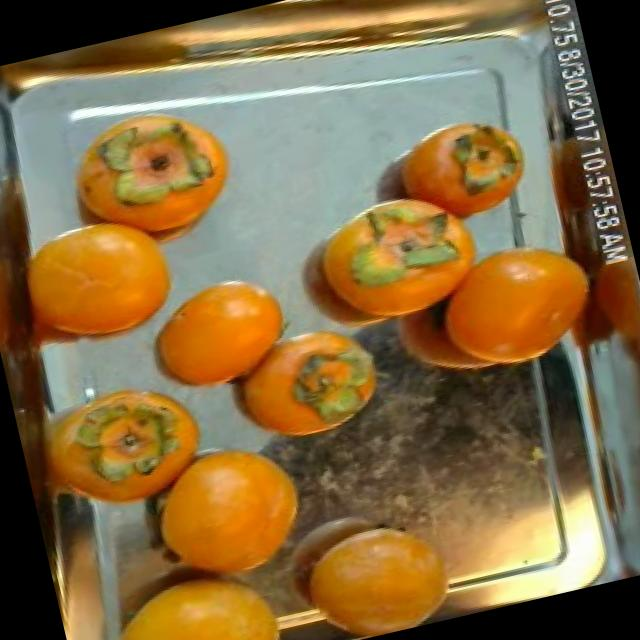Fruit: (113, 415, 334, 612), (0, 185, 211, 388), (9, 352, 234, 542), (350, 96, 550, 254), (74, 91, 256, 262), (120, 252, 312, 413)
